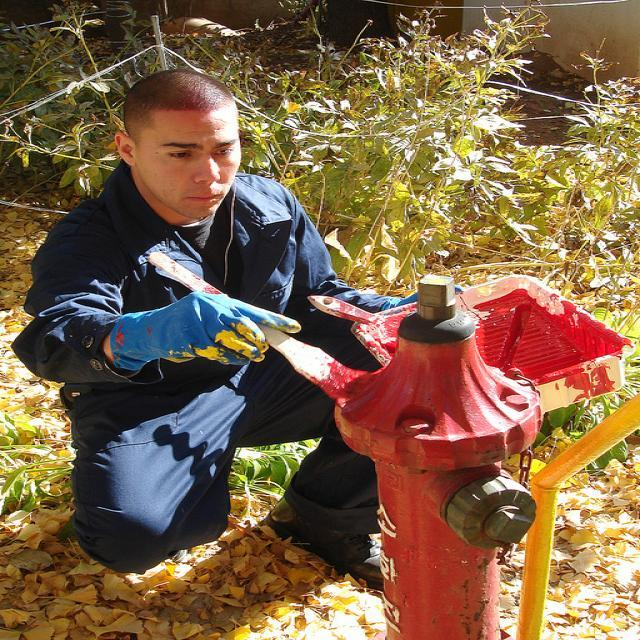fire_hydrant: (338, 269, 534, 631)
